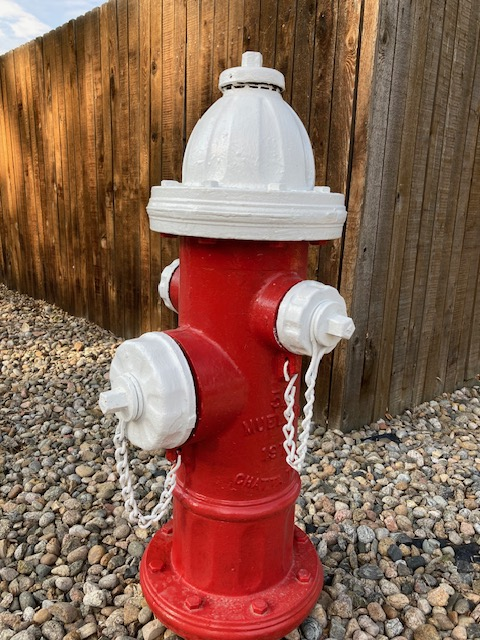FireHydrant: (93, 47, 376, 638)
